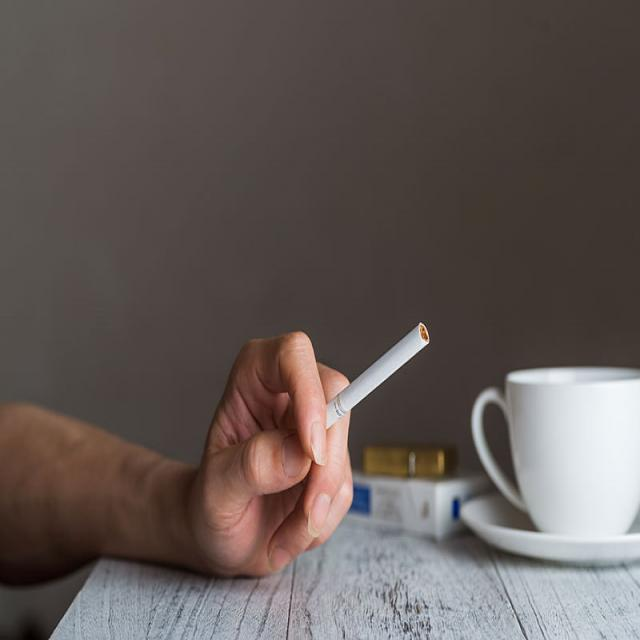smoking: (313, 321, 430, 437)
